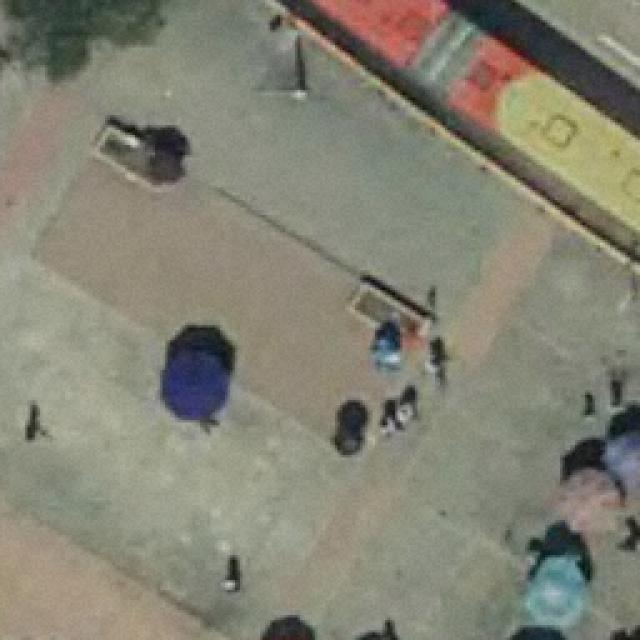vendedor_ambulante: (157, 342, 234, 431), (516, 550, 593, 627), (549, 463, 623, 534), (600, 423, 640, 496)
